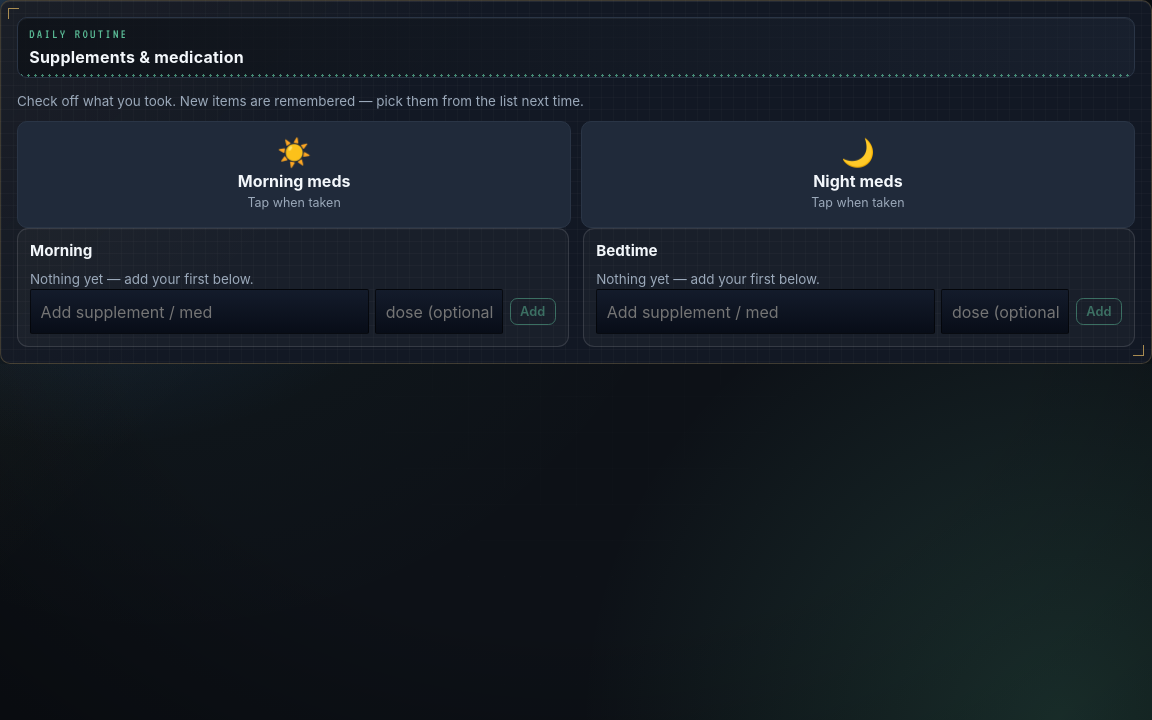
Test: SupplementLog › adds a new supplement to the morning slot and checks it off
Type "Metformin ER" into the 1st field with placeholder "Add supplement / med" at coordinates (199, 312), box [30,289,369,334]
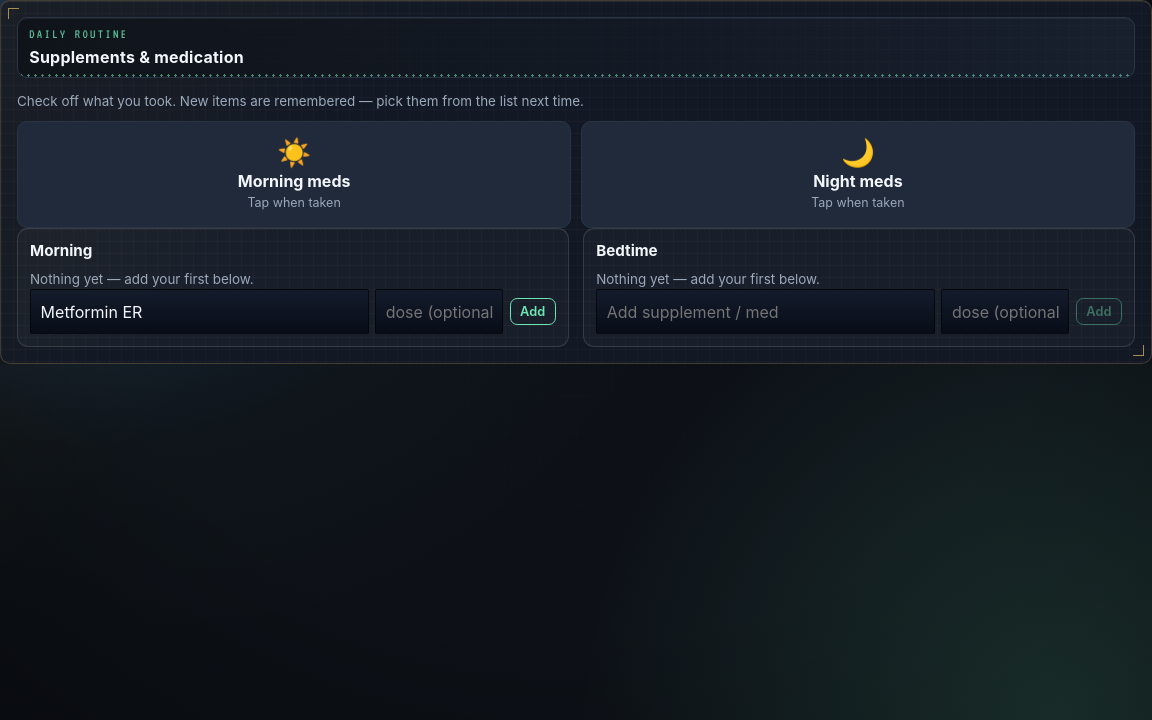
Type "2 tablets" into the 1st field with placeholder "dose (optional)" at coordinates (439, 312), box [375,289,503,334]
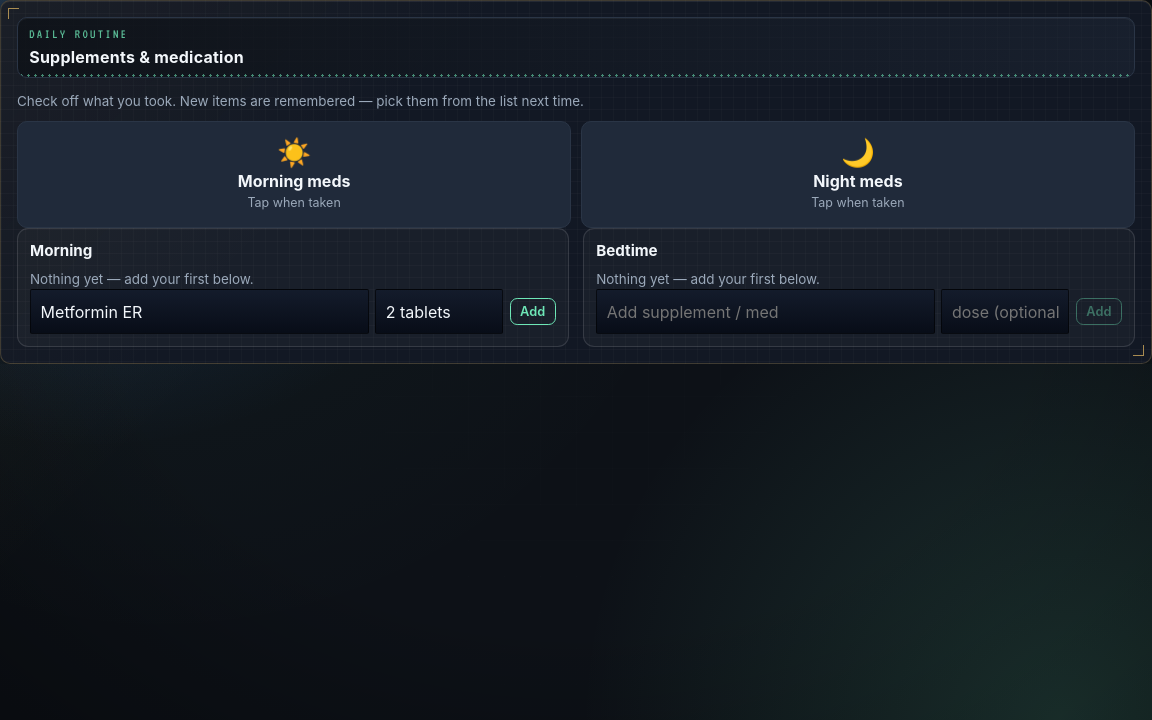
Click the 1st button "Add" at coordinates (533, 312), box [510,298,556,325]
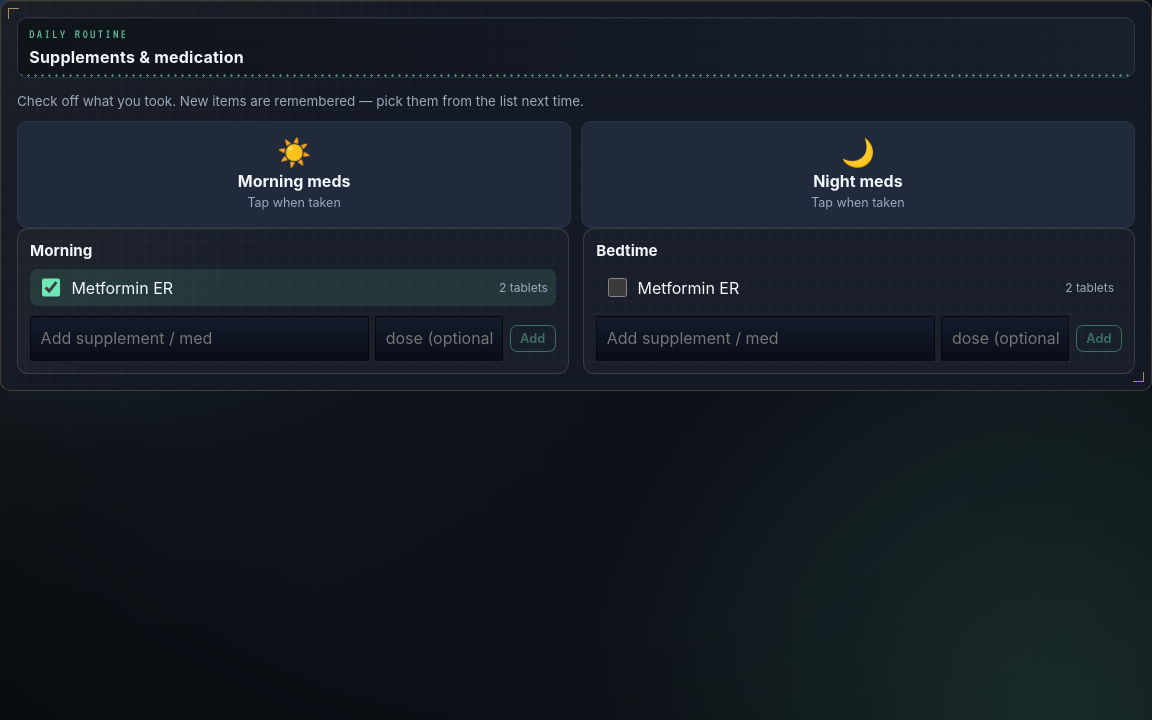
Check: the checkbox named "Metformin ER Morning" is checked, box [42,278,60,297]
